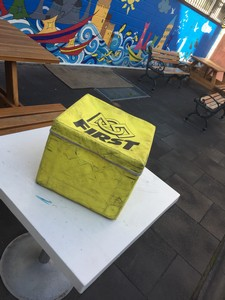cube: (36, 94, 159, 221)
